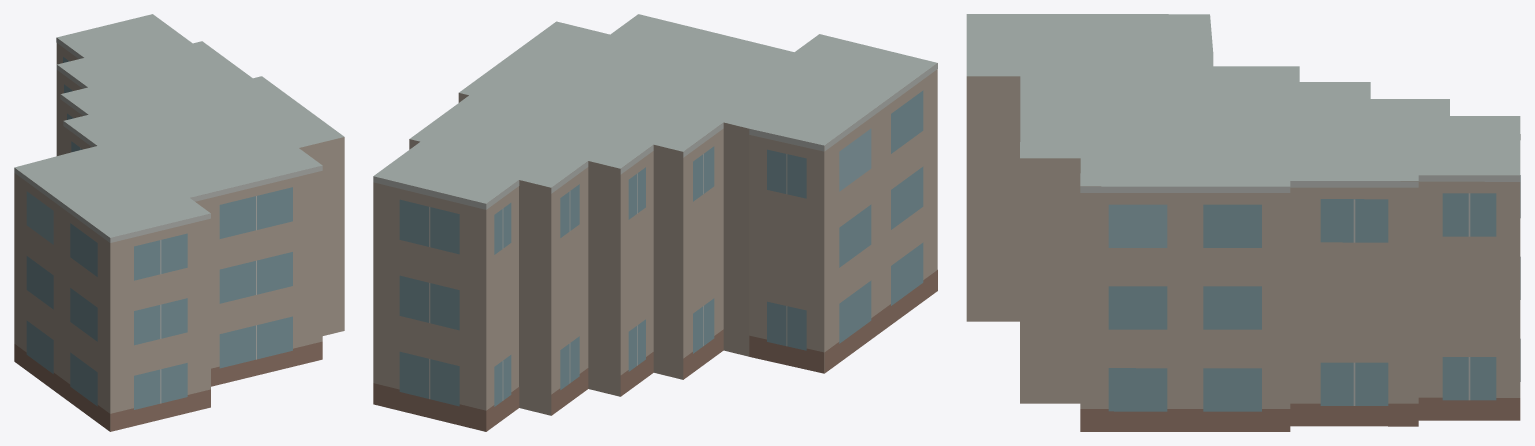
The model's file is survey-upis-32561046.glb.
3 views of the same model, side by side, from view 1: azimuth 30°, elevation 25°; view 2: azimuth 150°, elevation 25°; view 3: azimuth 270°, elevation 25° (orthographic). The views are drawn at different scales.
Parts seen in each view (by area): view 1: survey-upis-32561046.tmp; view 2: survey-upis-32561046.tmp; view 3: survey-upis-32561046.tmp.
Part boxes in pixels (box(x1,y1,x2,y2)): survey-upis-32561046.tmp: box(14, 14, 344, 431); survey-upis-32561046.tmp: box(373, 14, 937, 431); survey-upis-32561046.tmp: box(966, 14, 1520, 431).
Bounding box in the file's own units: 13.81 × 9.15 × 18.73.
